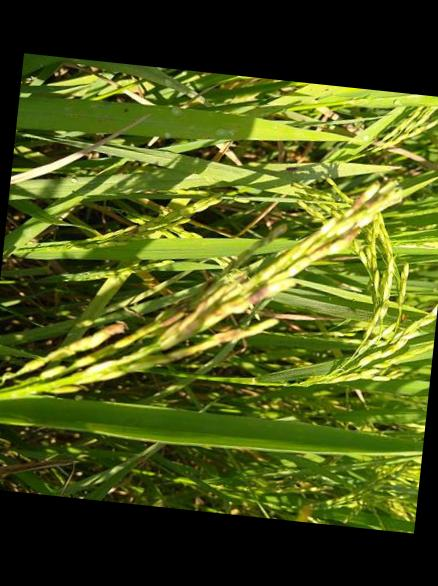Panicle Blight: (291, 189, 390, 259), (166, 319, 277, 357), (160, 297, 214, 342), (228, 275, 294, 305), (90, 319, 128, 340)
